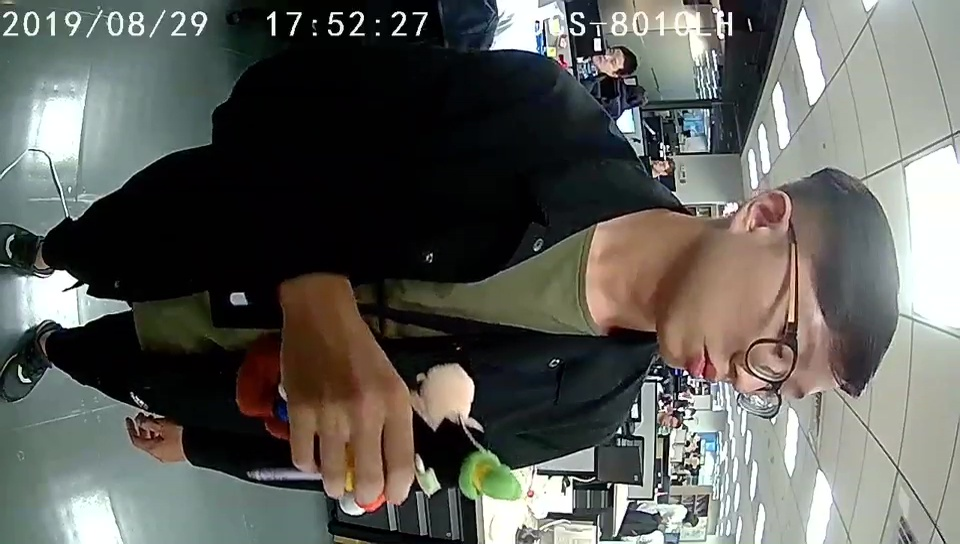goofy: (230, 344, 521, 515)
